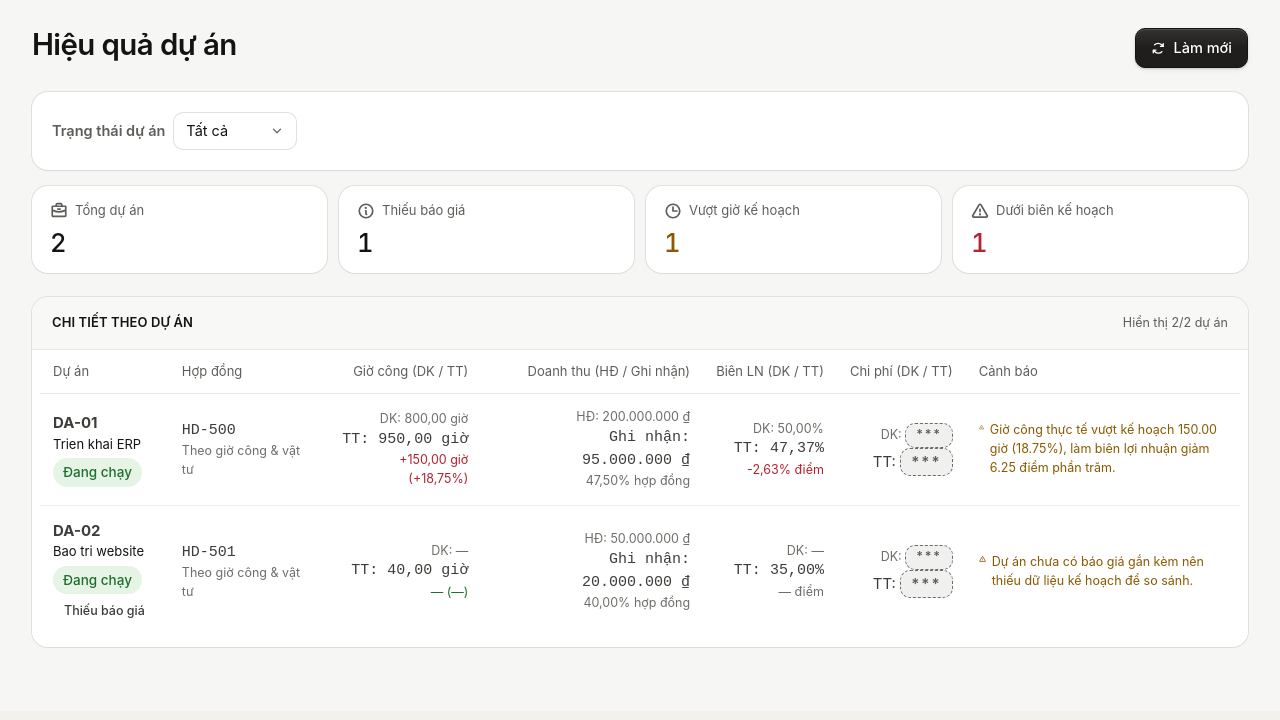
Scenario: ProjectPerformanceReportPage Component (NCL-11-CN-003) › Hiển thị dữ liệu báo cáo (TC-01, TC-02) › bấm thẻ "Vượt giờ kế hoạch" lọc bảng chỉ còn dự án vượt giờ
The image size is (1280, 720).
Expected: the row with test id "project-performance-row-1" is shown, 40,394 -> 1240,506
Click the button with test id "kpi-over-planned-hours-count" at (744, 210), box 646,186 -> 941,273
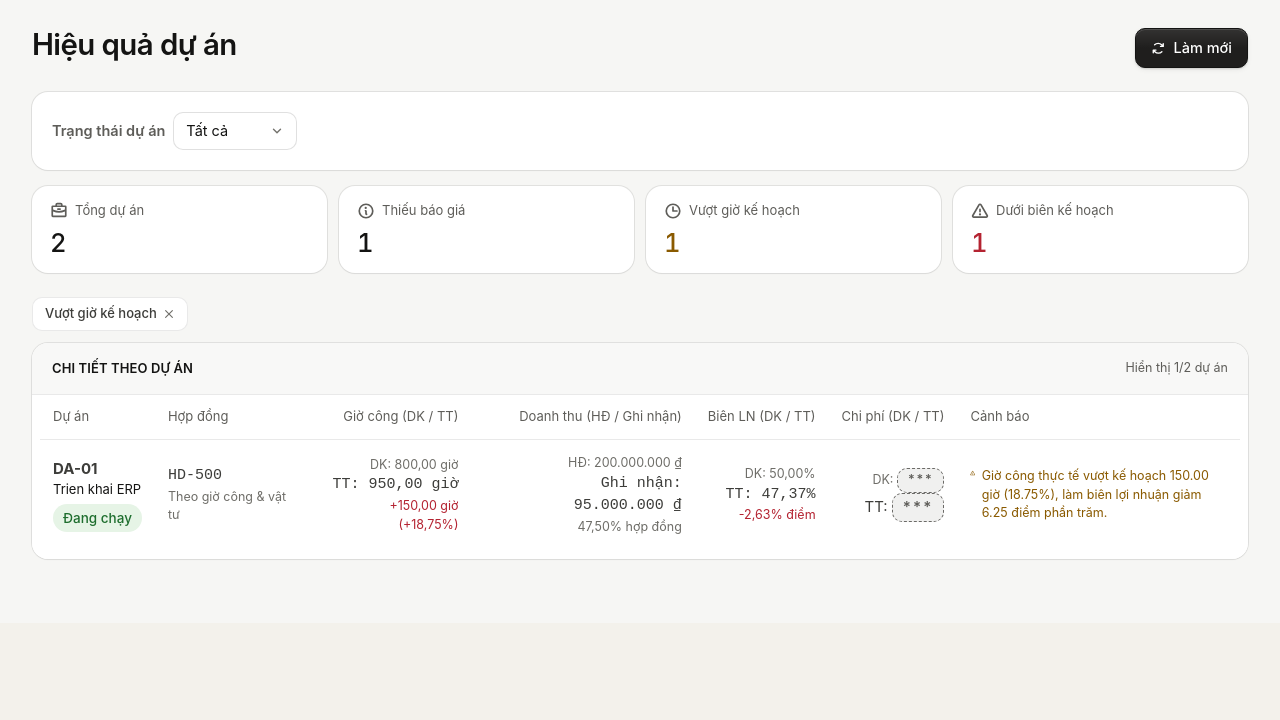
Expected: the row with test id "project-performance-row-1" is shown, 40,440 -> 1240,551
Expected: the row with test id "project-performance-row-2" is gone
